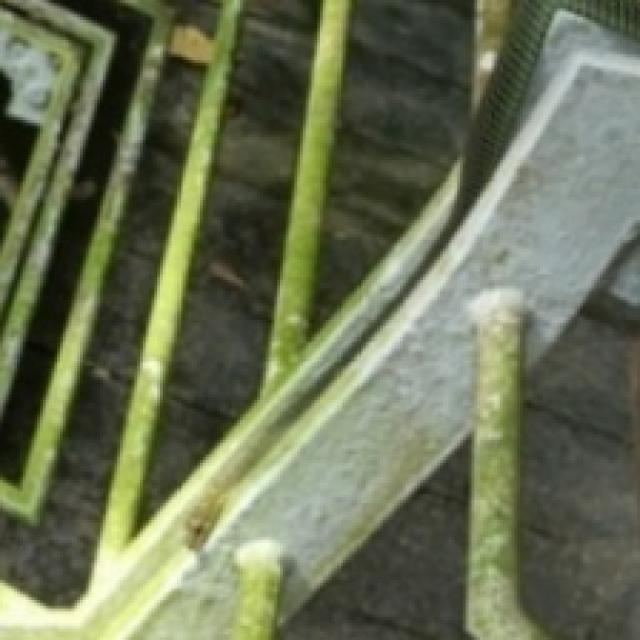paradise tree snake: (160, 0, 639, 558)
